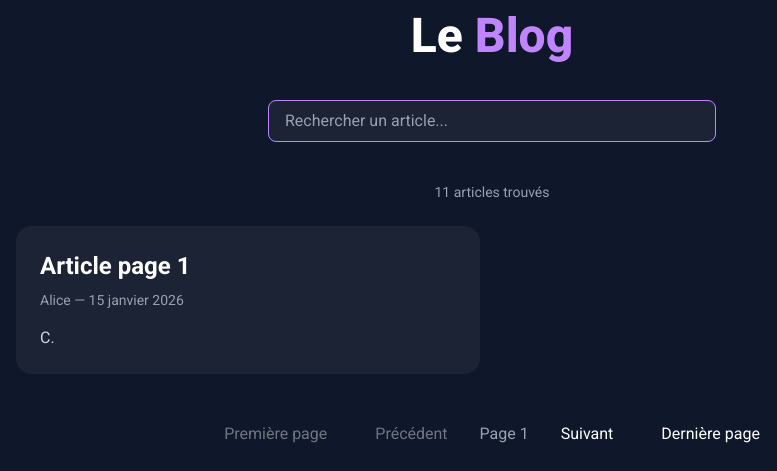
BlogPage › navigue entre les pages avec les contrôles de pagination
The image size is (777, 471).
Expected: the heading "Article page 1" is shown, [40,252,190,280]
Click the button "Suivant" at (587, 434), box [545,414,629,454]
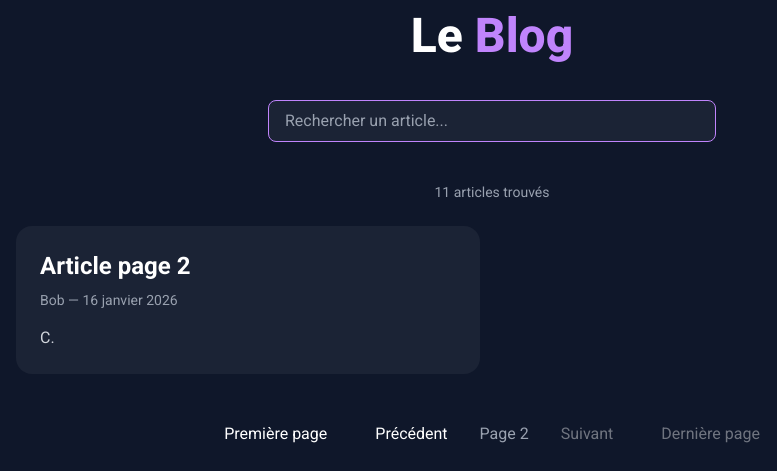
Now the heading "Article page 2" is shown, box [40,252,190,280]
Now the button "Suivant" is disabled, box [545,414,629,454]
